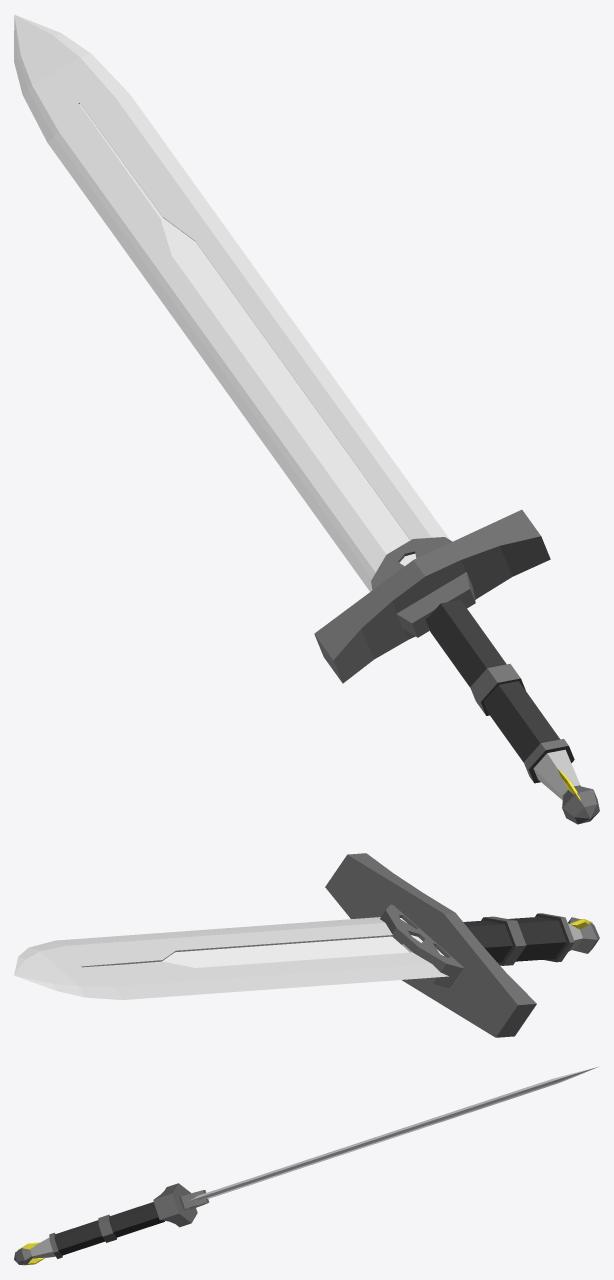
The model's file is sword_defender.fbx.
3 renders of one model, top to bottom at view 1: azimuth 30°, elevation 25°; view 2: azimuth 150°, elevation 25°; view 3: azimuth 270°, elevation 25°, orthographic. The views are drawn at different scales.
Visible parts, largest first — view 1: Sword - Defender; view 2: Sword - Defender; view 3: Sword - Defender.
Boxes of the visible parts, bbox=[...] form: Sword - Defender: bbox=[14, 14, 599, 824]; Sword - Defender: bbox=[14, 853, 599, 1037]; Sword - Defender: bbox=[14, 1067, 597, 1265].
Size of the model in its own units: 29.64 by 53.72 by 144.
